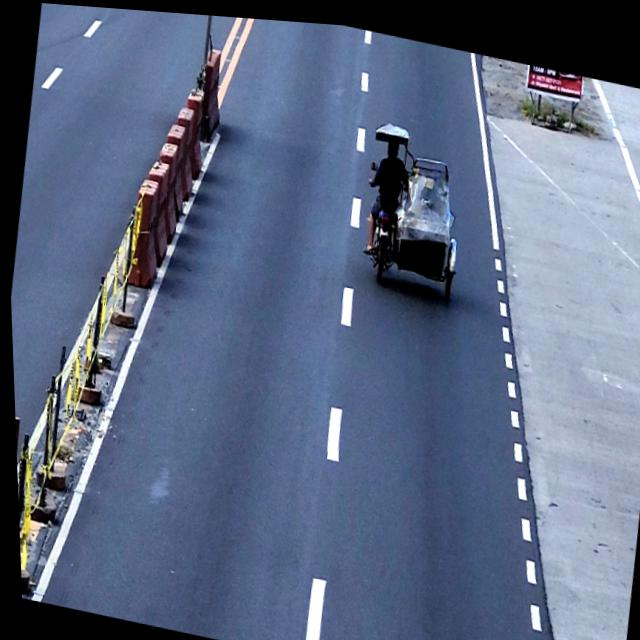Tricycle: (350, 112, 474, 298)
